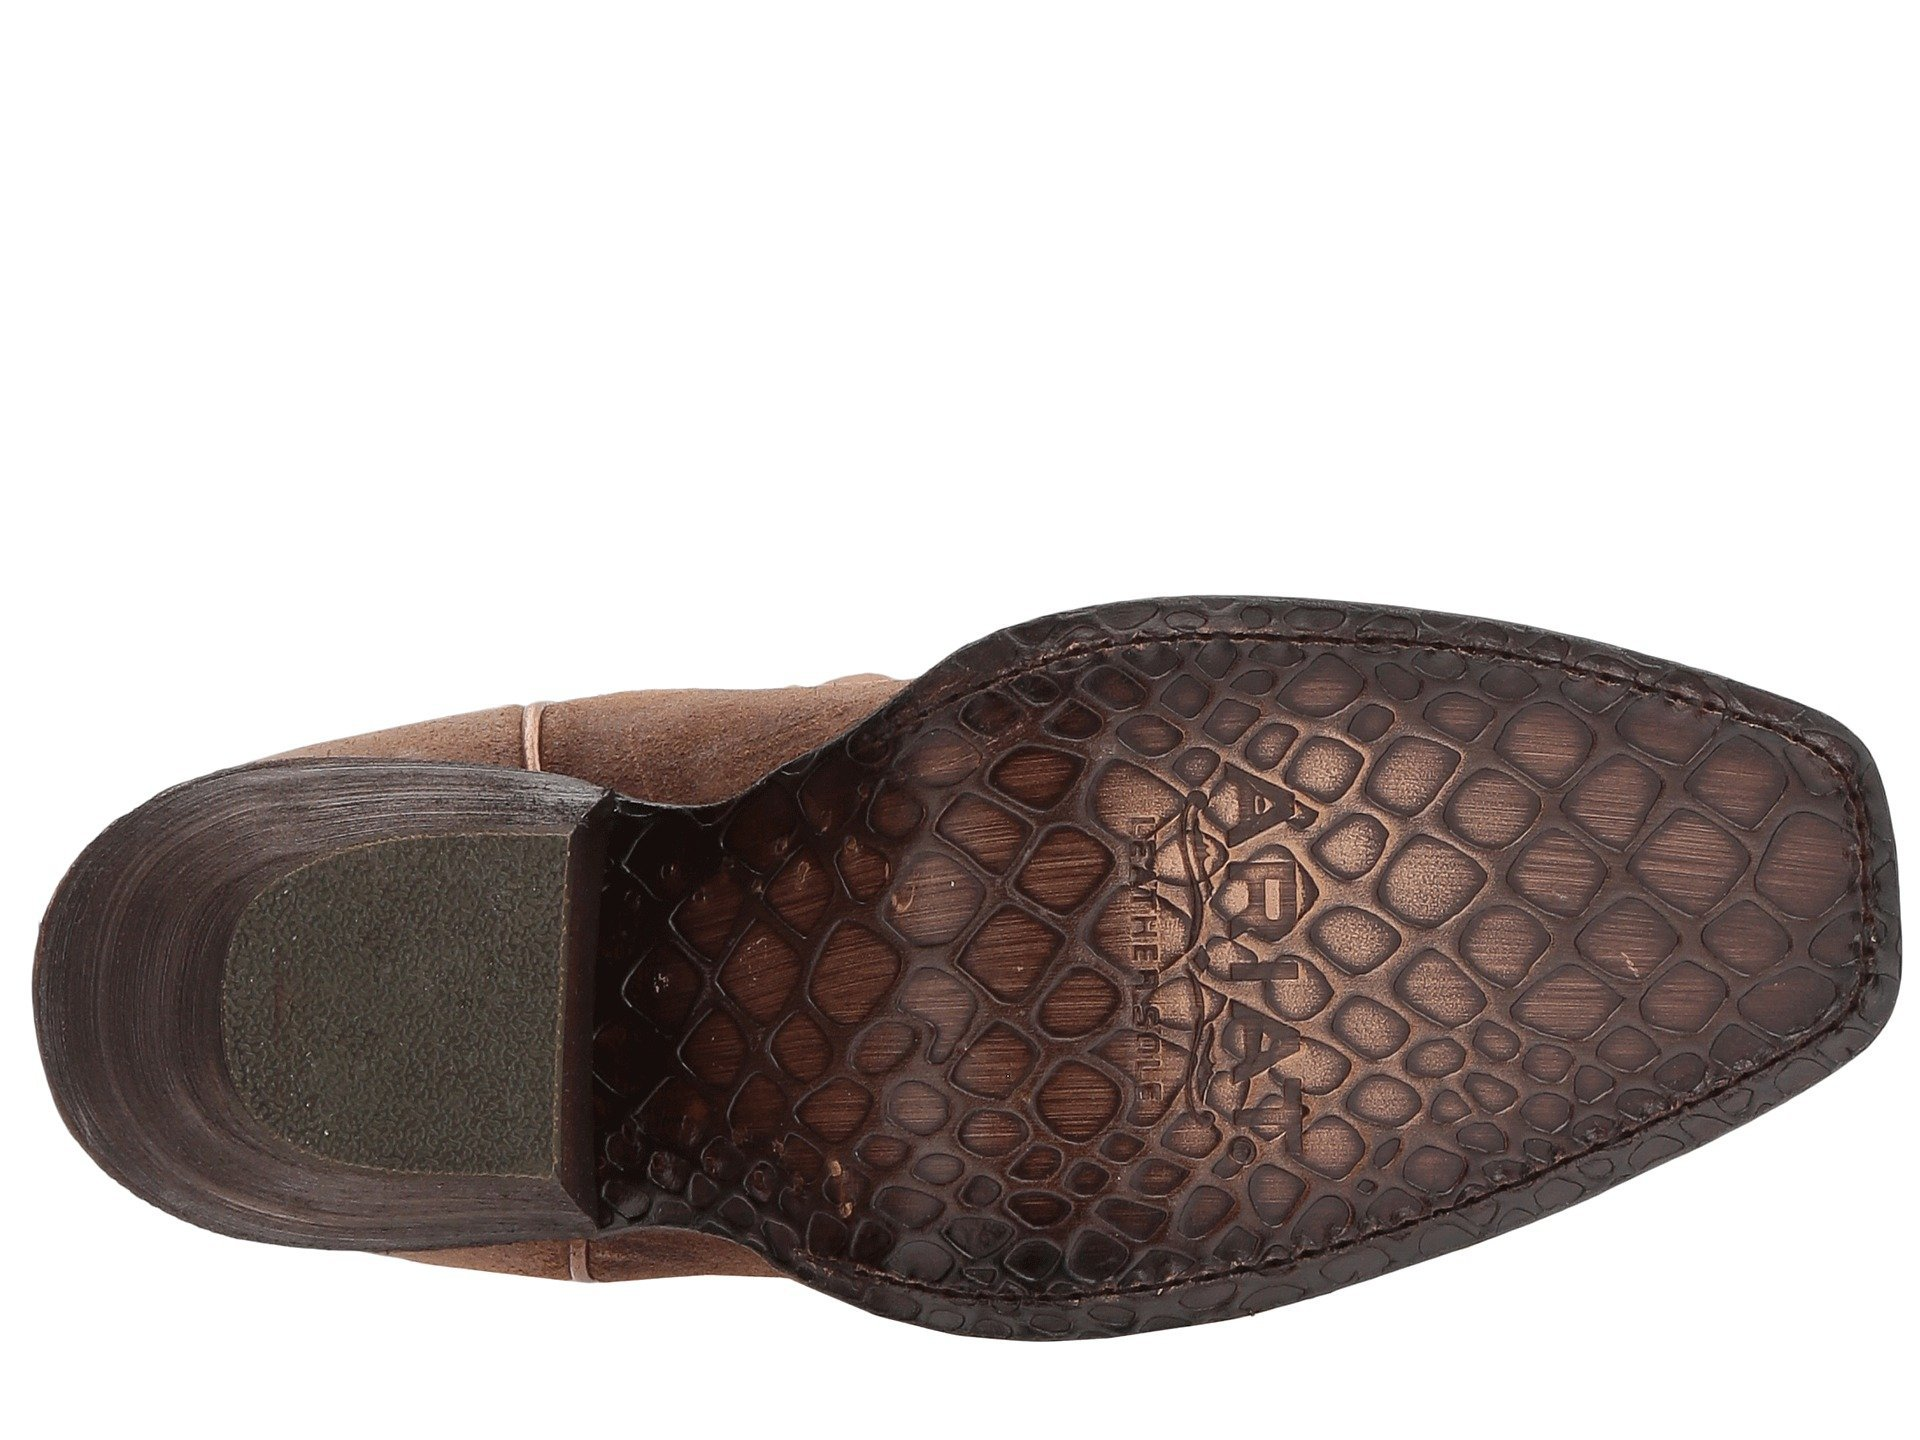circle: (869, 1066, 974, 1193)
line: (1445, 687, 1826, 1071), (1079, 711, 1361, 1171)
quad: (1445, 687, 1826, 1071), (1079, 711, 1361, 1171)
text: (1079, 711, 1361, 1171)
